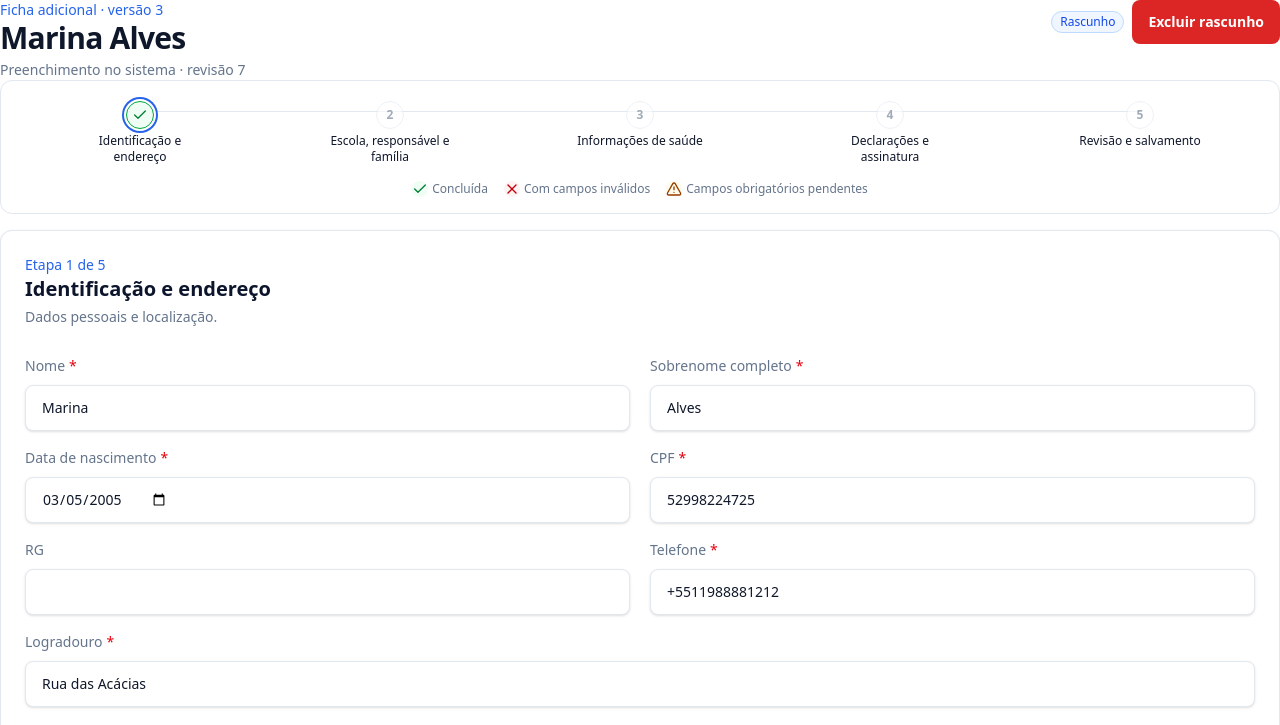
Scenario: OratorianoFormEditor › mantém etapas não iniciadas apagadas e mostra amarelo depois da visita
Click the button with aria-label "Etapa 2: Escola, responsável e família, ainda não iniciada" at (390, 133), box [267, 97, 513, 169]
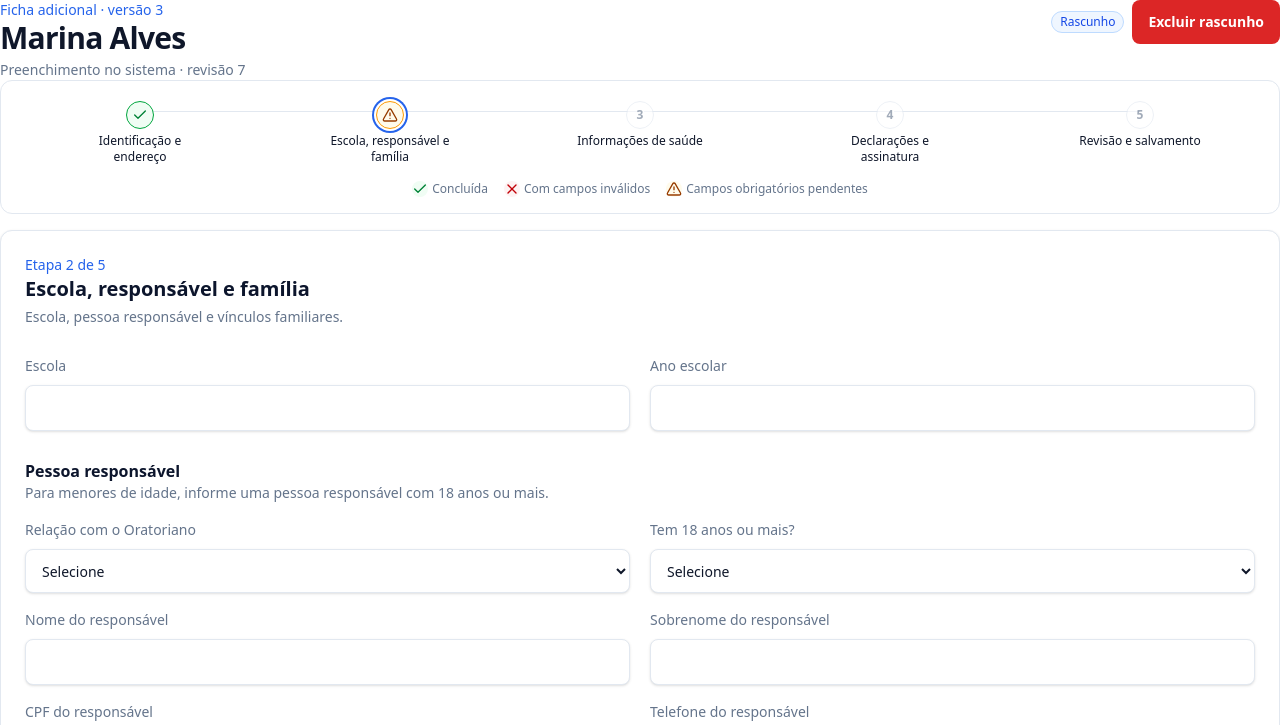
Expected: the button with aria-label "Etapa 5: Revisão e salvamento, ainda não iniciada" is shown, [1017, 97, 1263, 153]
Result: the button named "Etapa 2: Escola, responsável e família, com campos obrigatórios pendentes" is shown at [267, 97, 513, 169]
